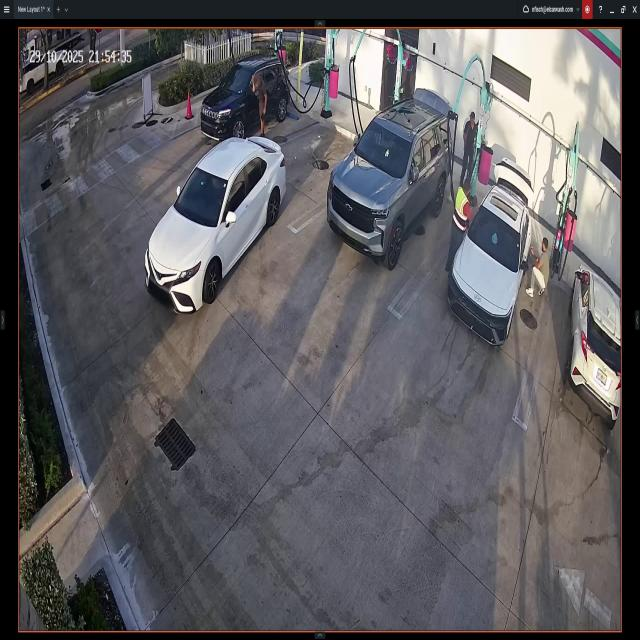Car: (143, 131, 286, 317), (328, 92, 451, 271), (464, 157, 533, 343), (570, 266, 620, 421), (203, 60, 286, 142)
